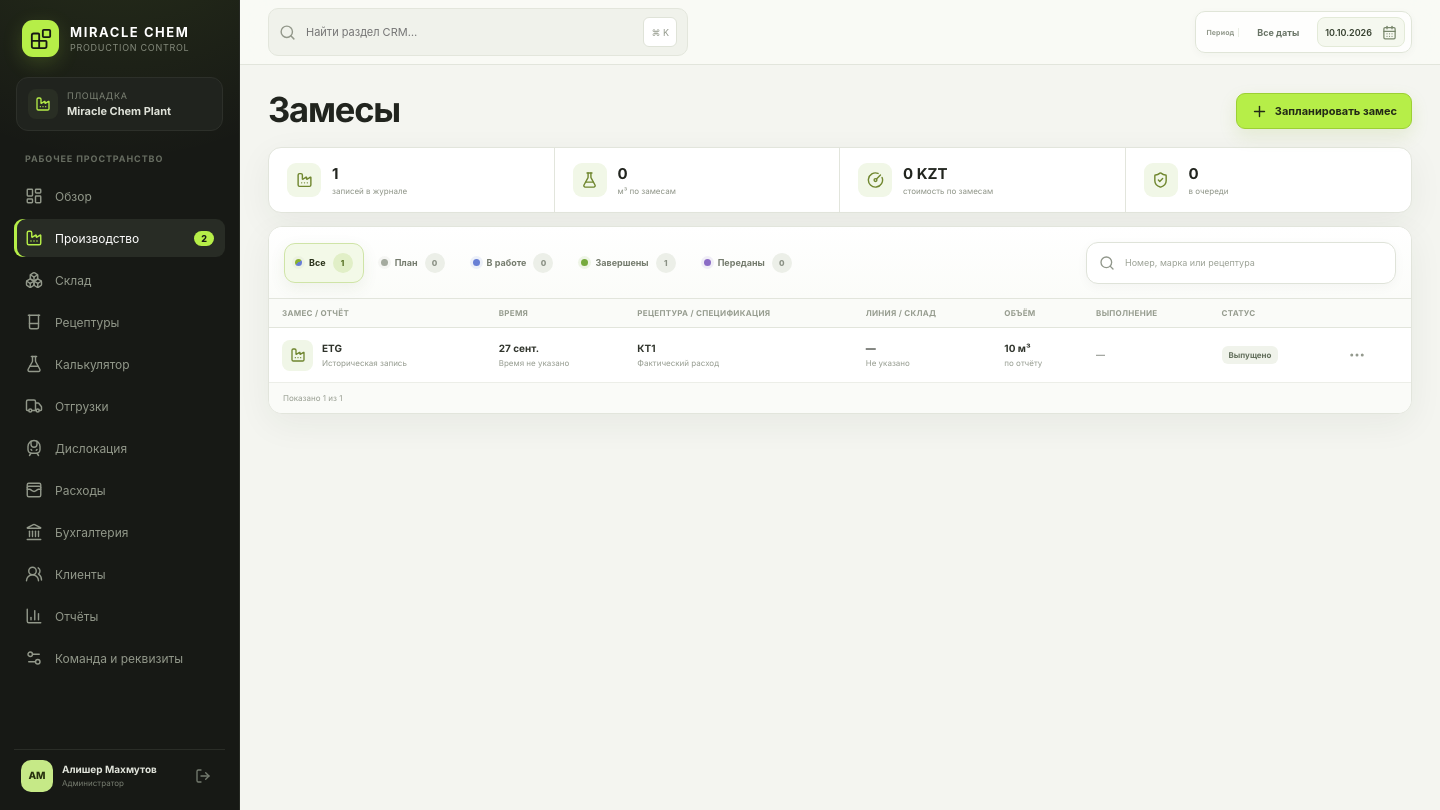
Miracle Chem app shell › keeps Excel production visible when a 1C report has the same date
Check: the heading "Замесы" is shown, box [268,93,400,129]
Click the button "Все даты" at x=1278, y=32, box [1247,17,1309,47]
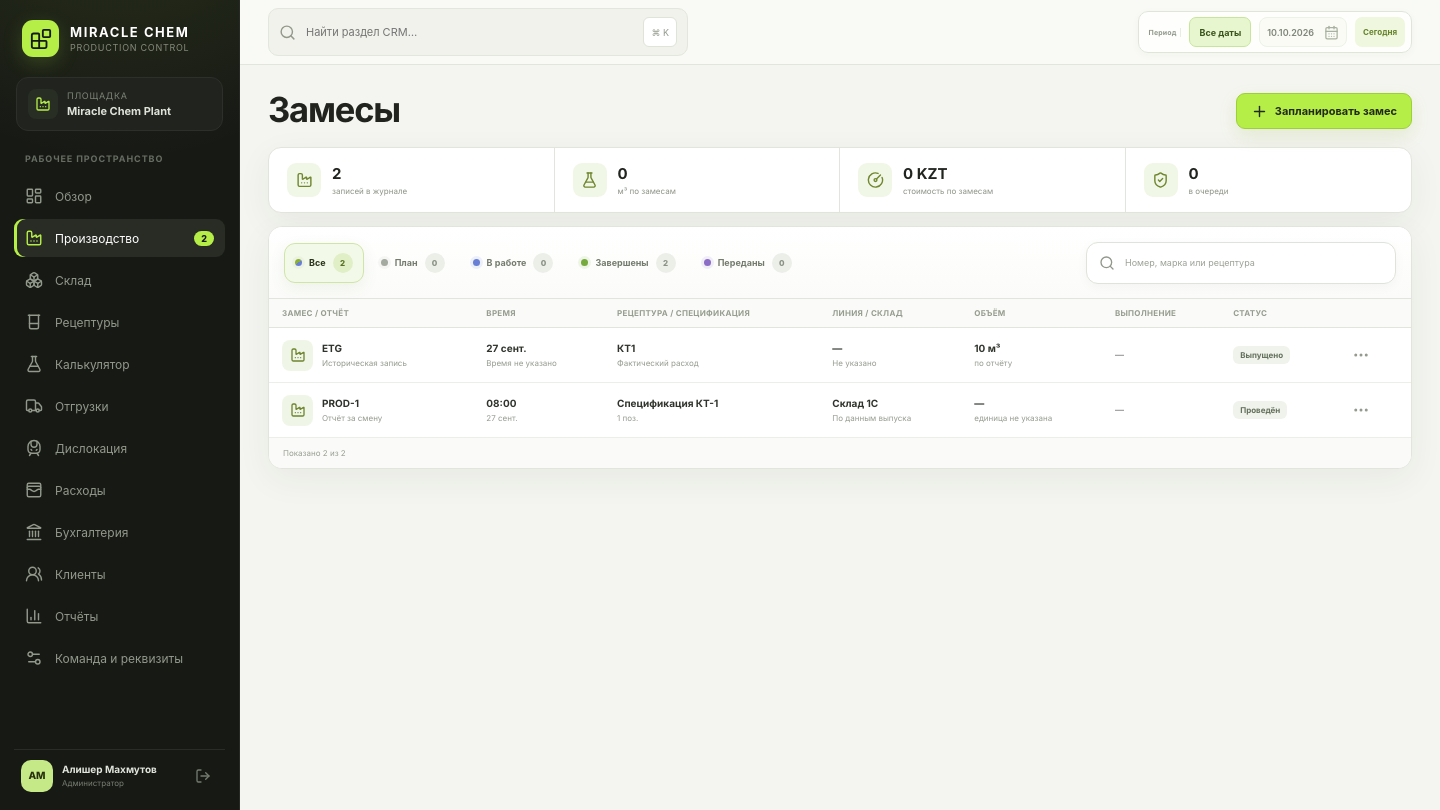
Check: the text "ETG" is shown, box [322,343,342,355]
Check: the text "PROD-1" is shown, box [322,398,359,410]
Check: the text "Показано 2 из 2" is shown, box [283,448,346,458]
